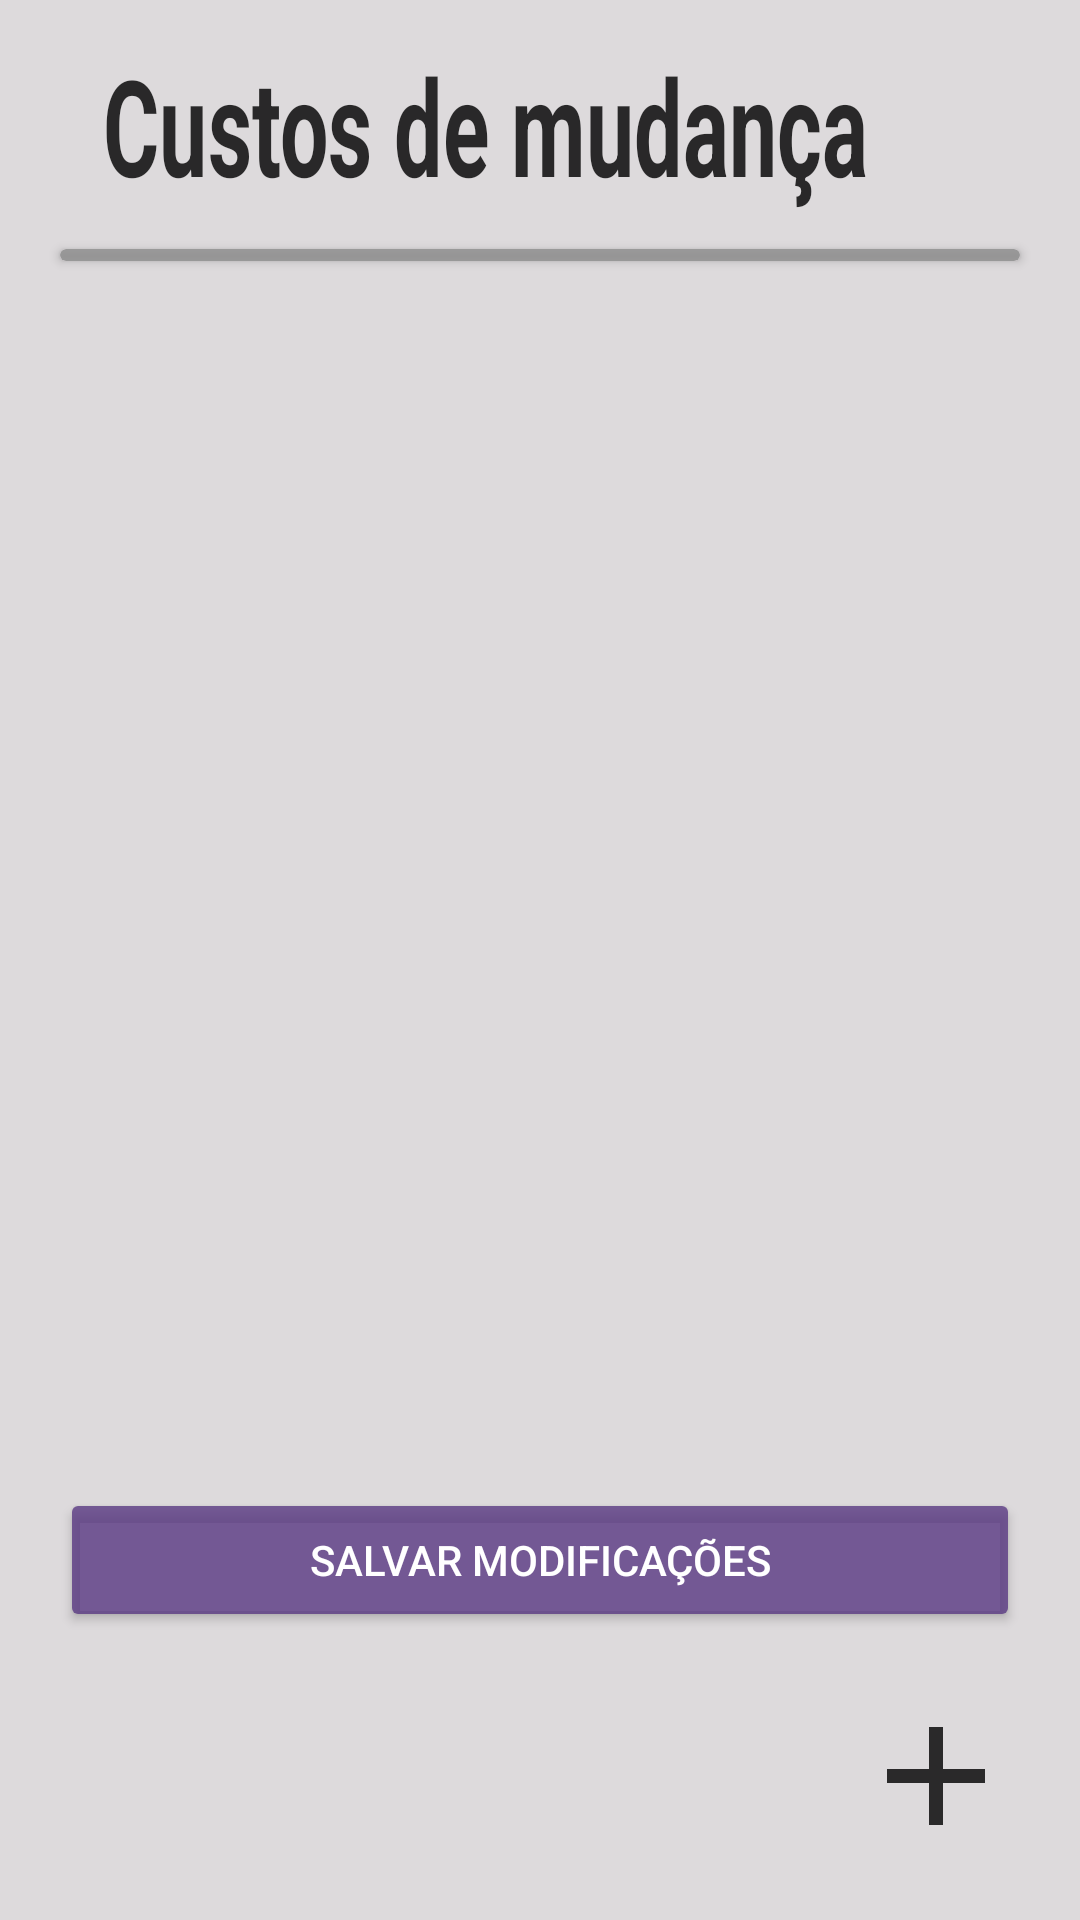

Locate icon controls on the screen. Image size 1080 x 1920, boxes as (x1,y1,x2,y2).
plus sign: (887,1727,985,1825)
